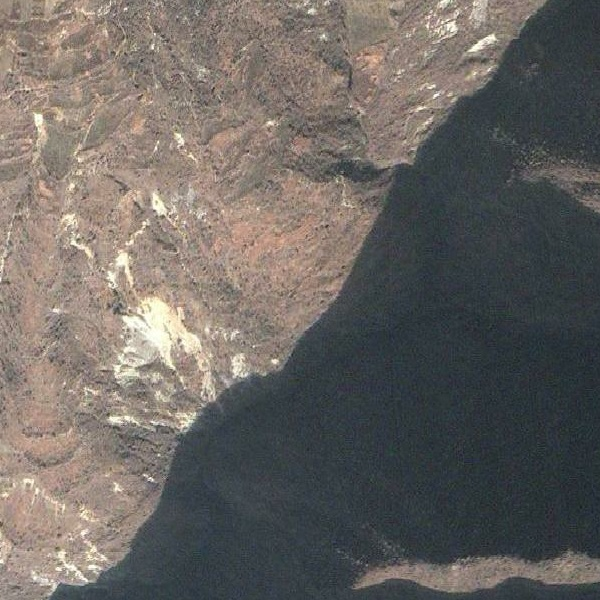slope: (105, 293, 219, 437)
